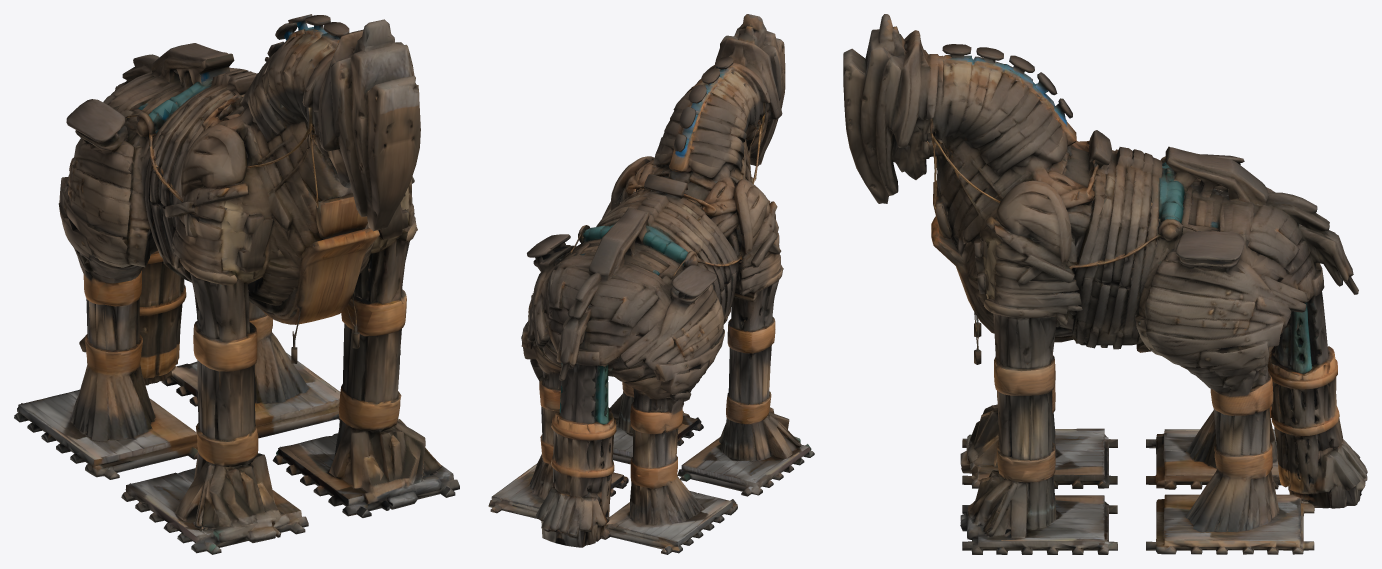
Rendered from truva_ati.glb.
3 renders of one model, left to right at view 1: azimuth 30°, elevation 25°; view 2: azimuth 150°, elevation 25°; view 3: azimuth 270°, elevation 25°, orthographic. The views are drawn at different scales.
Parts seen in each view (by area): view 1: Meshy_AI_Trojan_Monument_0225170209_texture; view 2: Meshy_AI_Trojan_Monument_0225170209_texture; view 3: Meshy_AI_Trojan_Monument_0225170209_texture.
Boxes of the visible parts, box(x1,y1,x2,y2) form: Meshy_AI_Trojan_Monument_0225170209_texture: box(14, 14, 459, 554); Meshy_AI_Trojan_Monument_0225170209_texture: box(488, 14, 814, 554); Meshy_AI_Trojan_Monument_0225170209_texture: box(843, 14, 1367, 554).
Size of the model in its own units: 1.03 by 2 by 1.98.
1 material, 1 textured.
